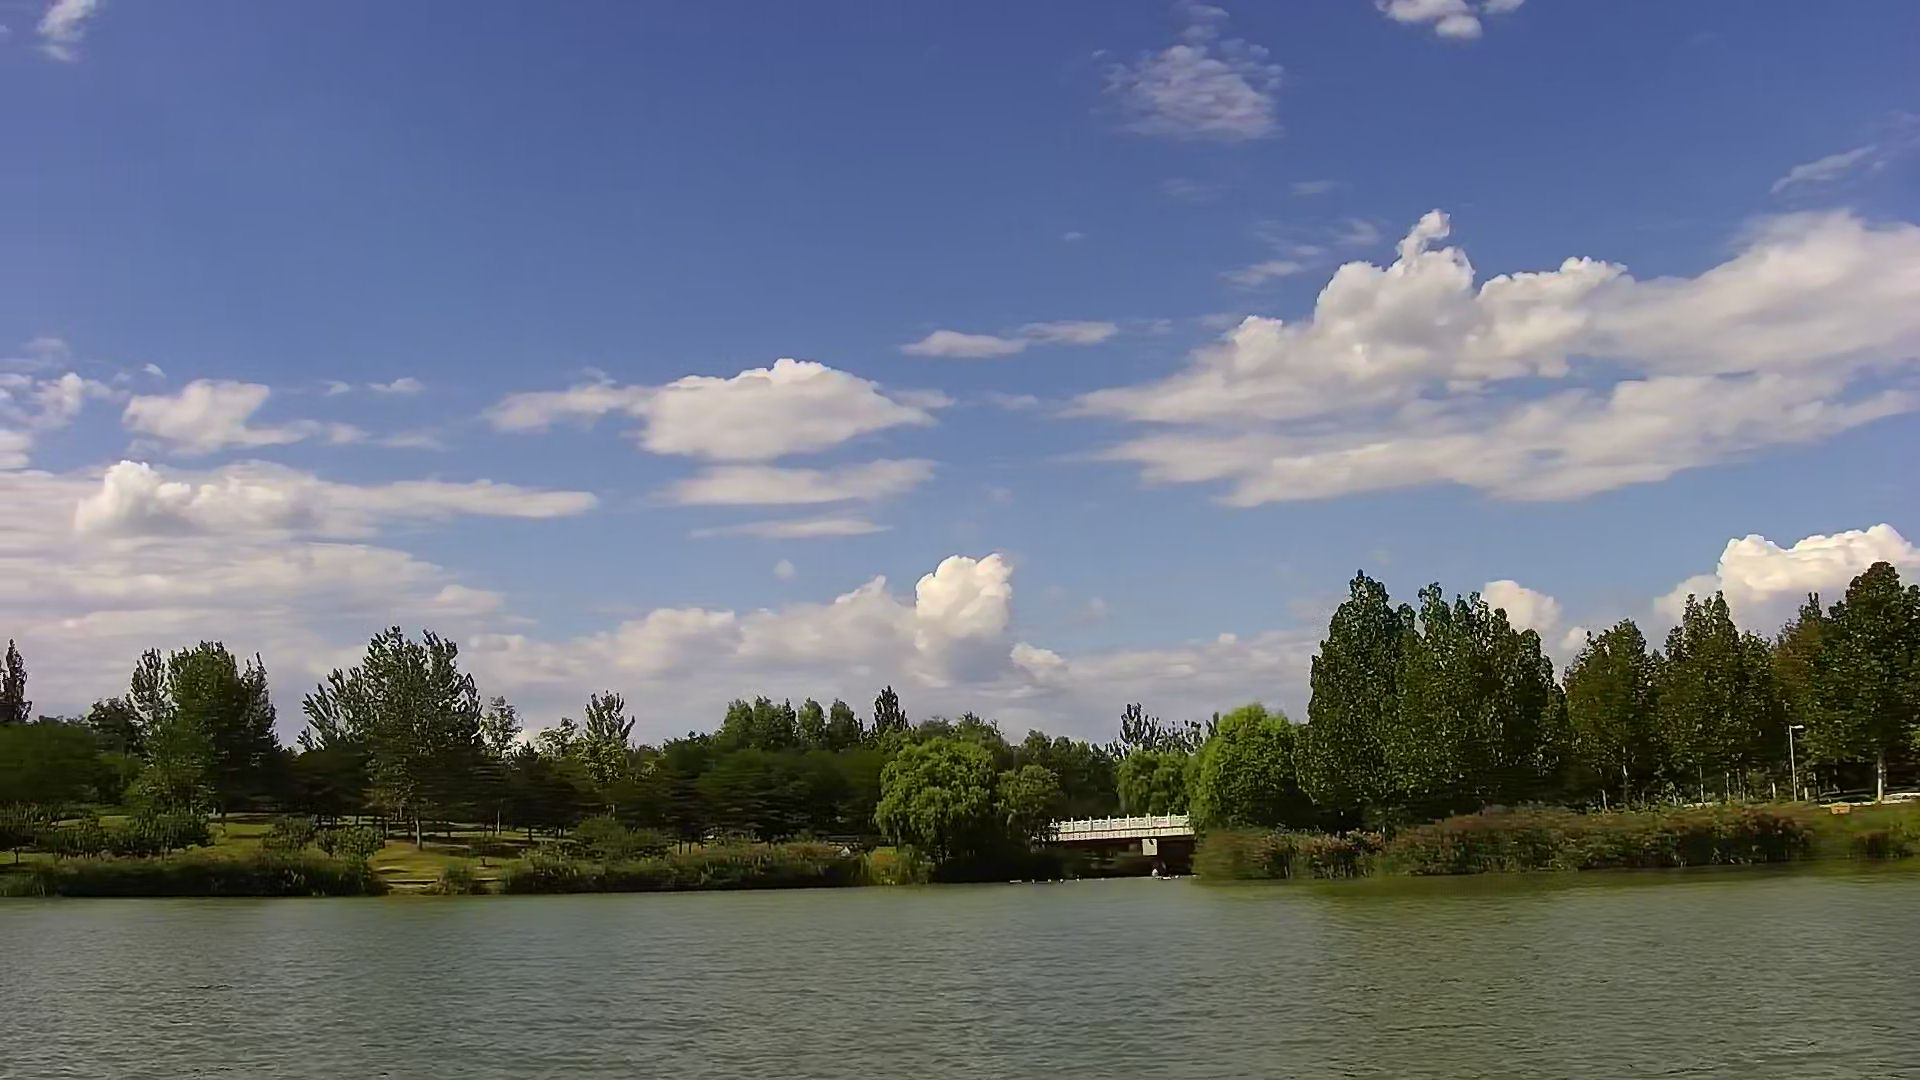bridge: (1058, 812, 1193, 880)
